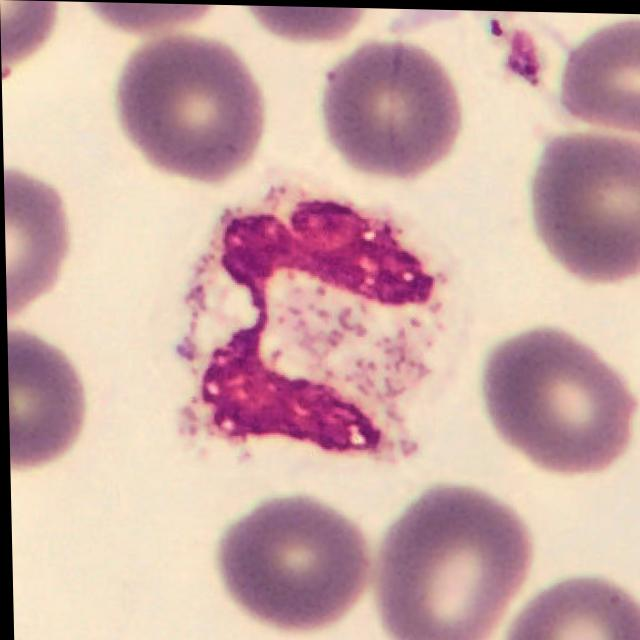Neutrofilo segmentado: (175, 185, 466, 460)
